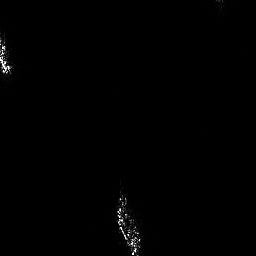ship: (114, 188, 142, 256), (1, 32, 14, 76)
